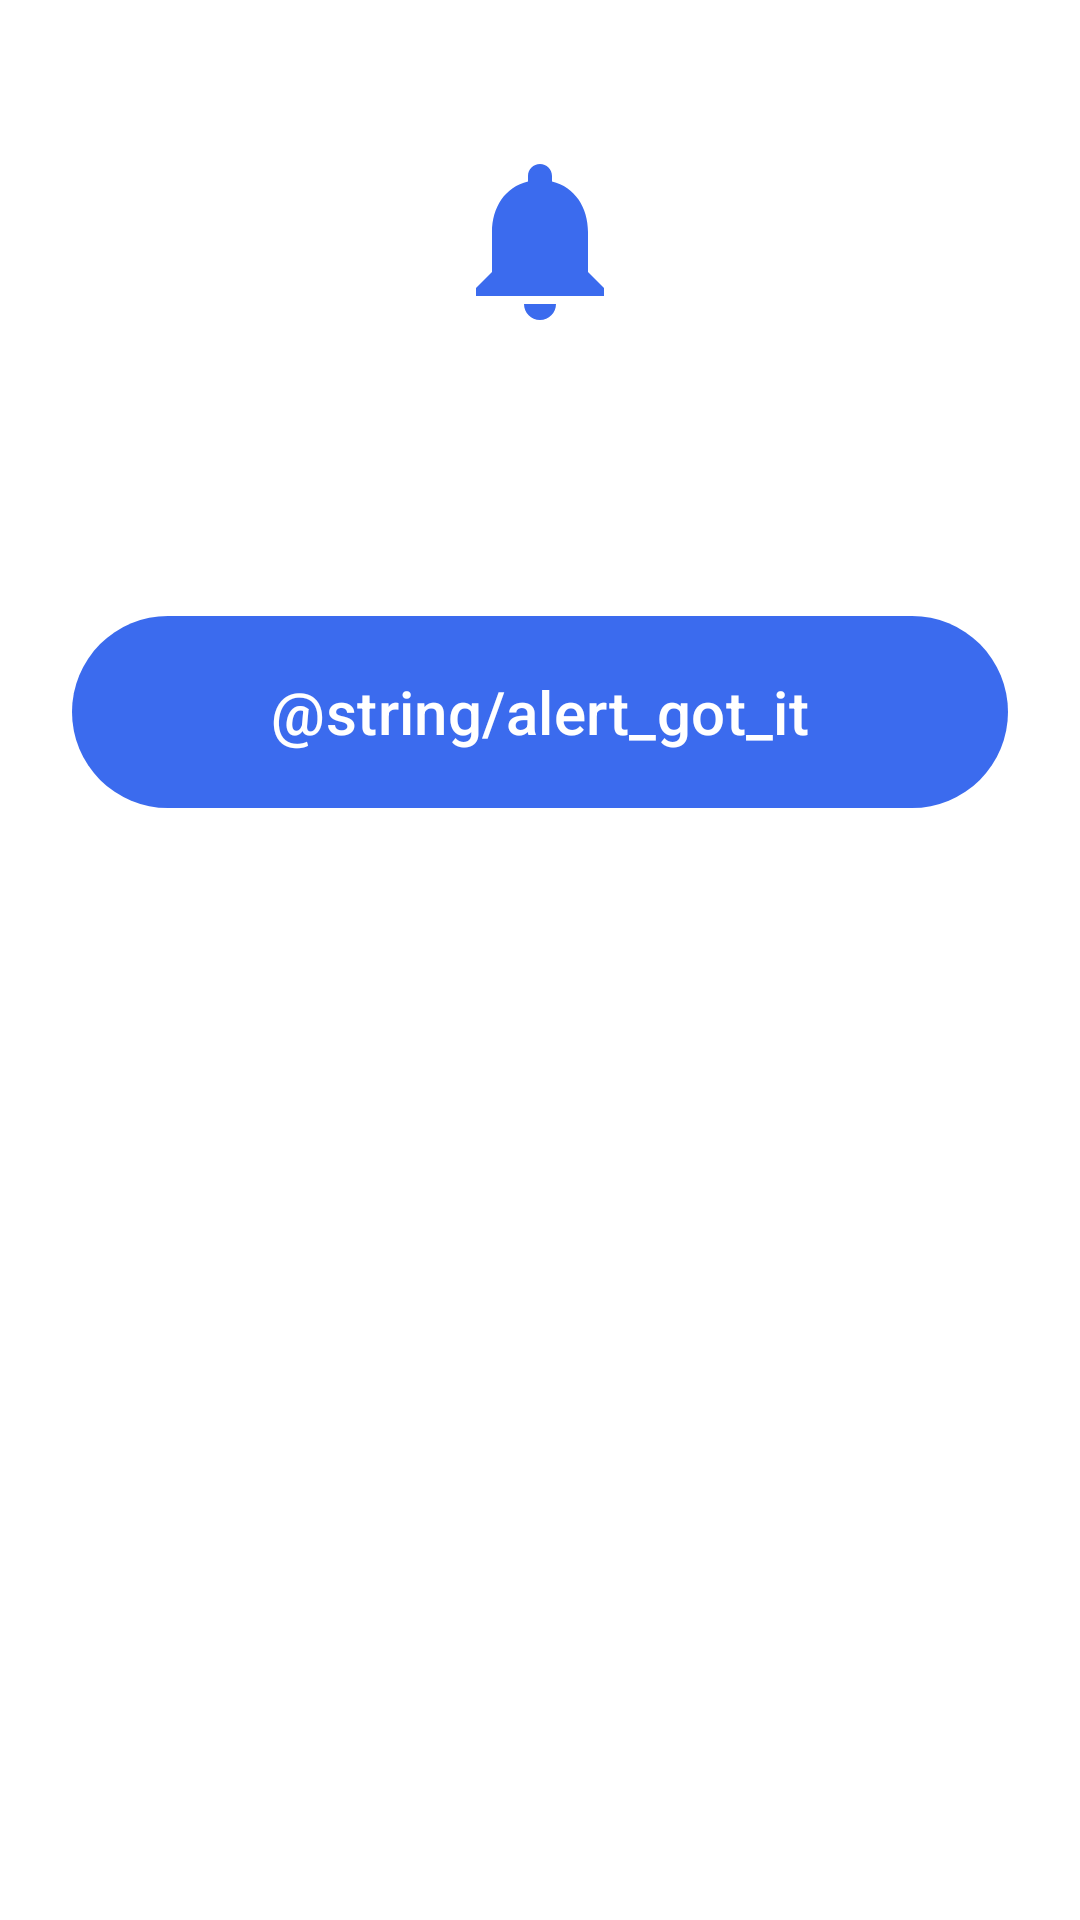

Icon click points for this 1080 × 1920 phone screenshot, format point (x, y):
alert: point (540, 242)
